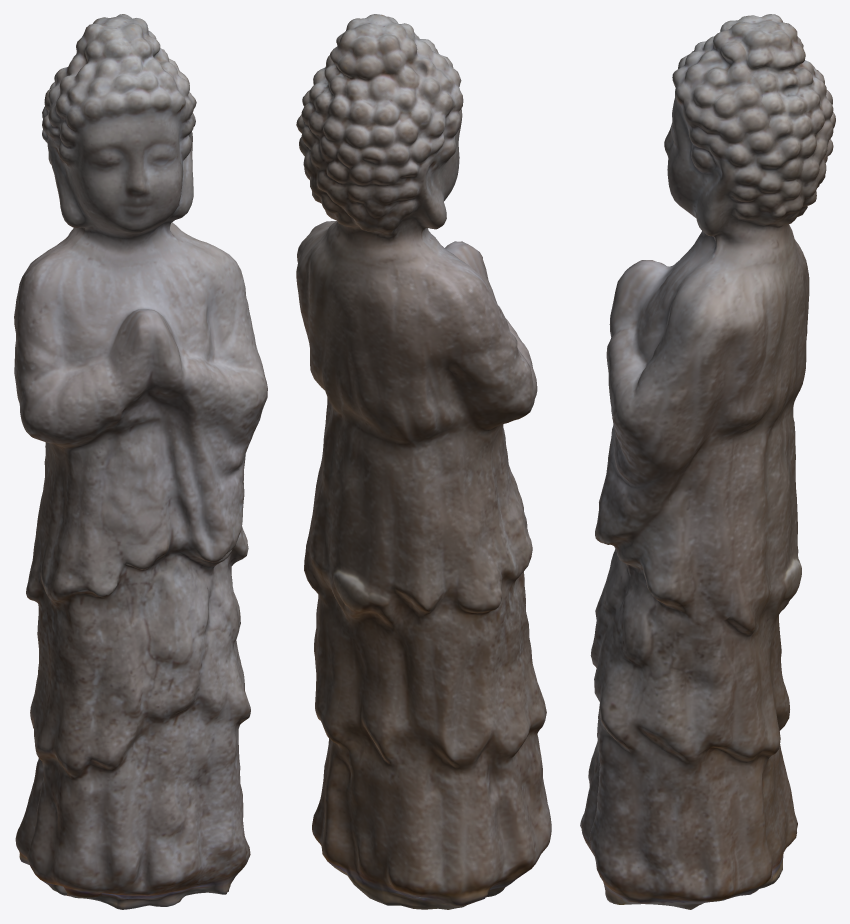
3 renders of one model, left to right at view 1: azimuth 30°, elevation 25°; view 2: azimuth 150°, elevation 25°; view 3: azimuth 270°, elevation 25°, orthographic. The views are drawn at different scales.
Parts seen in each view (by area): view 1: stytta.001; view 2: stytta.001; view 3: stytta.001.
Boxes of the visible parts, x1,y1,x2,y2 form: stytta.001: (14,14,267,909); stytta.001: (296,14,551,909); stytta.001: (580,14,835,909).
Size of the model in its own units: 3.5 by 12.74 by 3.41.
